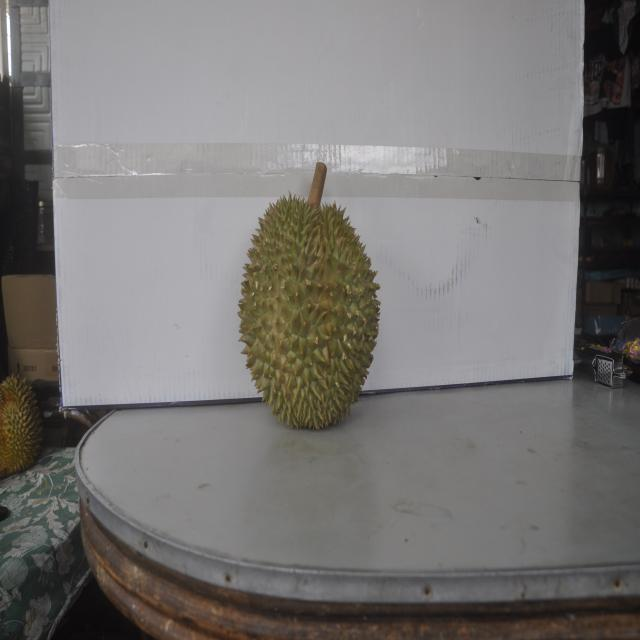mature: (237, 180, 380, 432), (0, 371, 43, 479)
